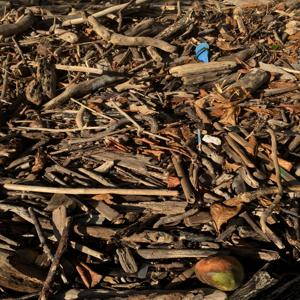plastic: (182, 126, 212, 165), (193, 43, 216, 70)
